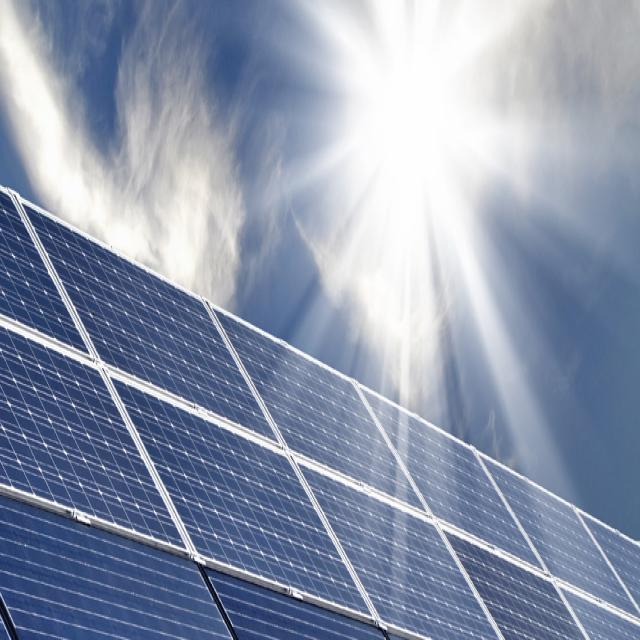clean-solar-panel: (1, 189, 640, 637)
